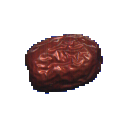gd: (13, 15, 128, 110)
